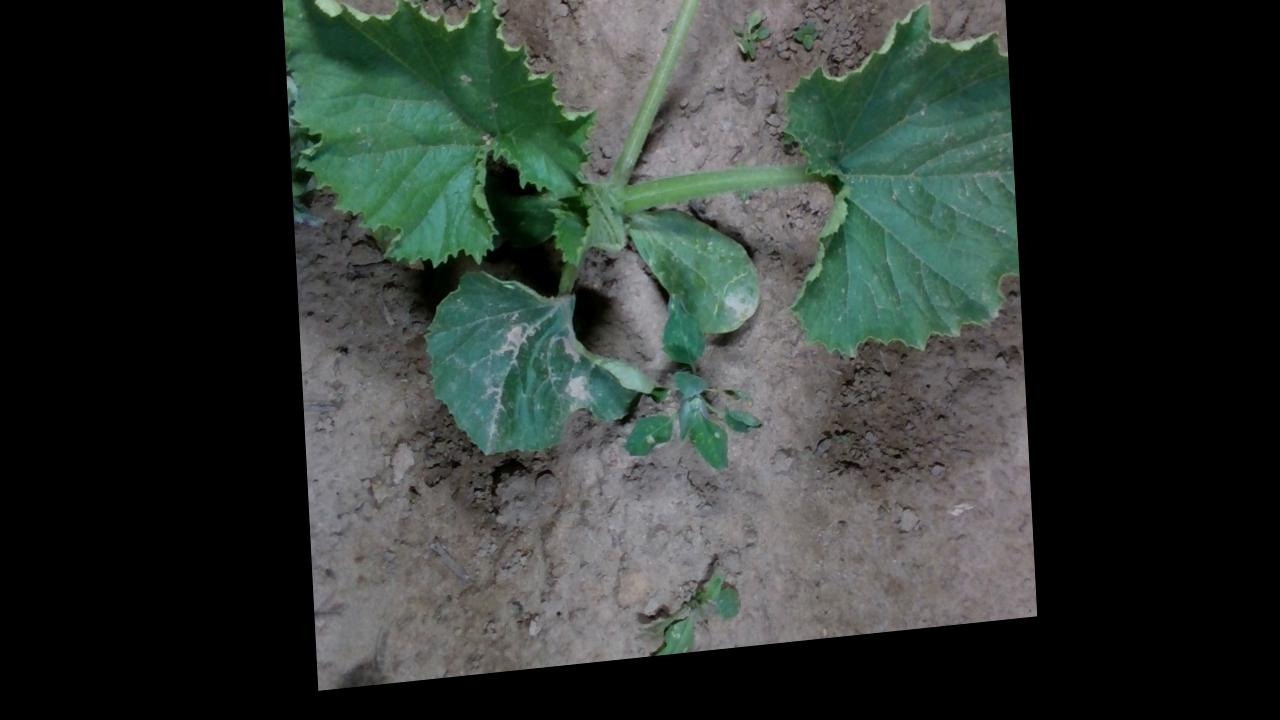weed: (629, 571, 738, 670)
